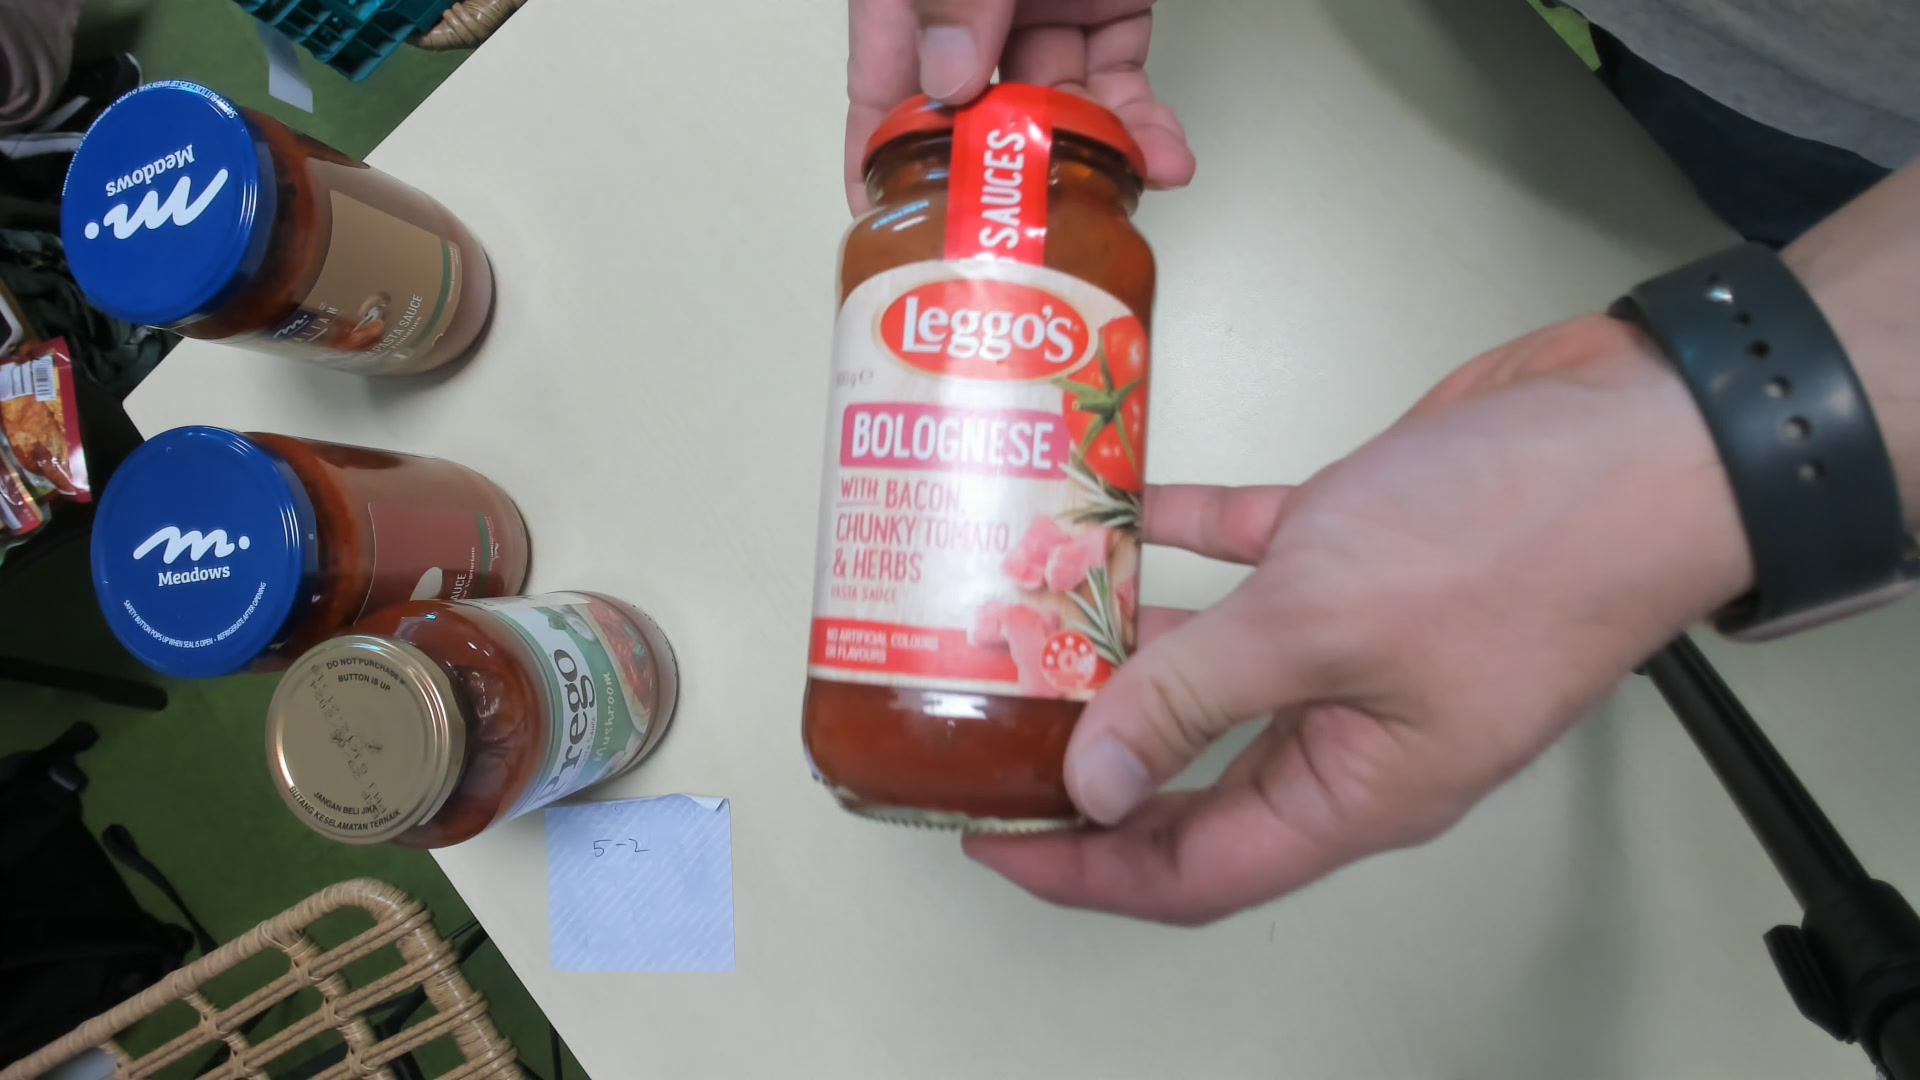PastaSauce_500-599g_Halal_NonHealthy: (810, 76, 1149, 833)
